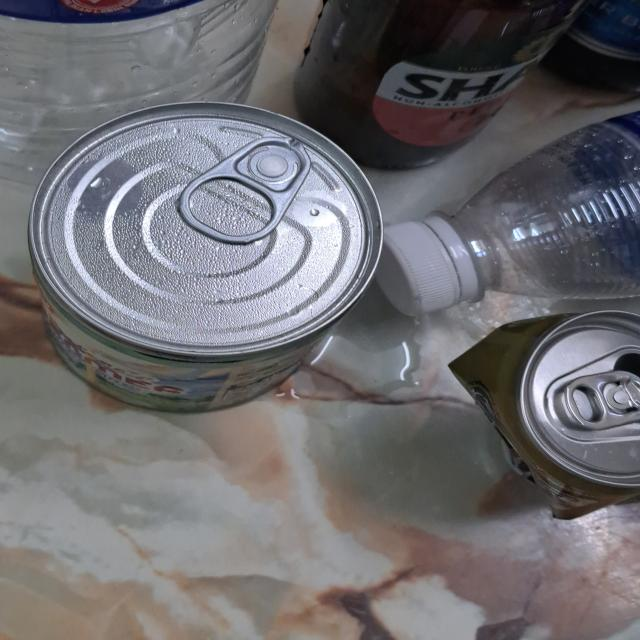can: (28, 101, 386, 418), (447, 307, 640, 522)
glass bottle: (294, 0, 575, 171)
plastic bottle: (0, 0, 273, 186), (460, 114, 640, 298)
plastic bottle cap: (371, 223, 466, 317)
pop tab: (175, 139, 314, 245), (556, 369, 640, 431)
